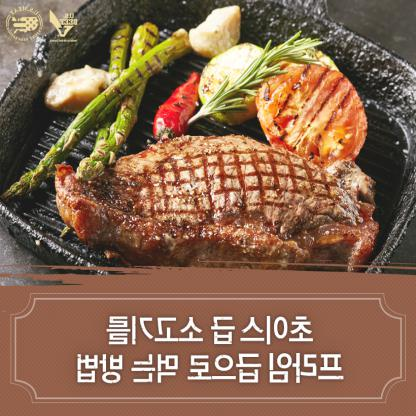Carne: (47, 133, 377, 259)
